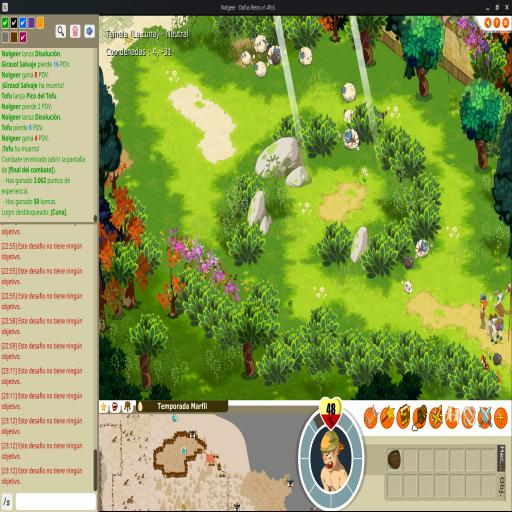Enemigos: (338, 128, 360, 151), (267, 44, 286, 68), (414, 238, 434, 259), (298, 45, 313, 67), (341, 82, 356, 103), (253, 61, 270, 79), (254, 34, 268, 55), (240, 50, 255, 68), (400, 254, 414, 271), (343, 108, 356, 125), (489, 352, 502, 366), (402, 280, 413, 295)
Personaje: (479, 293, 488, 332)
